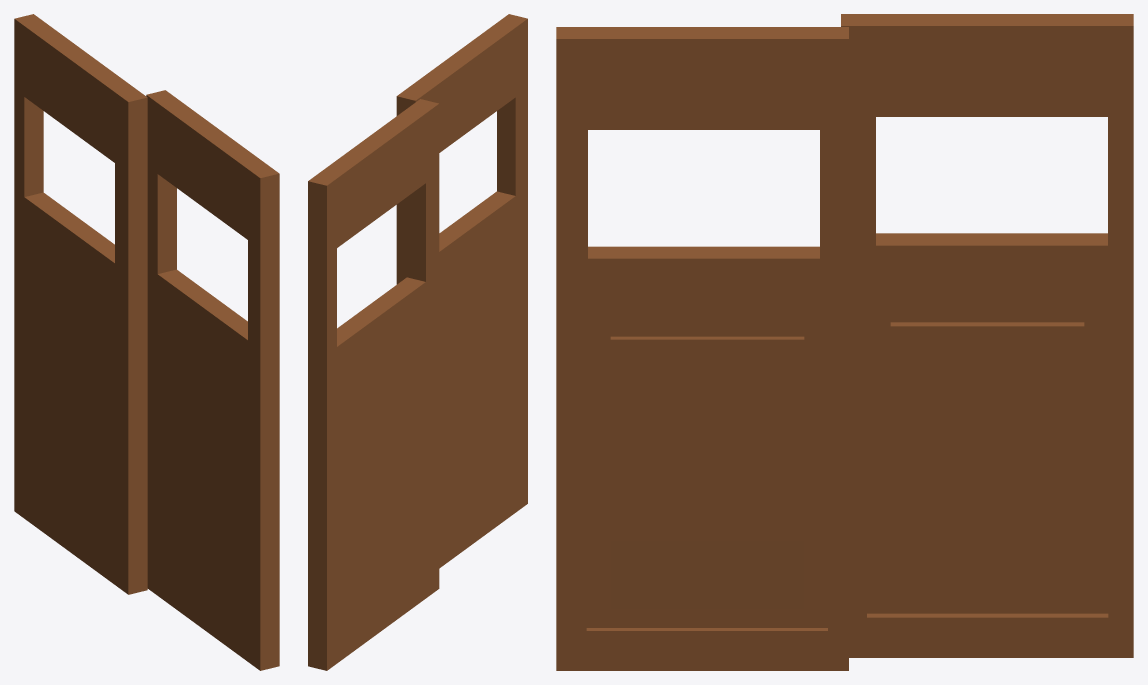
The picture shows the model from 3 angles, left to right: view 1: azimuth 30°, elevation 25°; view 2: azimuth 150°, elevation 25°; view 3: azimuth 270°, elevation 25°; orthographic projection. The views are drawn at different scales.
Parts seen in each view (by area): view 1: Cube.024; view 2: Cube.024; view 3: Cube.024.
Part boxes in pixels (x1,y1,x2,y2): Cube.024: (14,14,279,670); Cube.024: (308,14,527,670); Cube.024: (556,14,1133,670).
Bounding box in the file's own units: 64.92 × 761 × 630.
